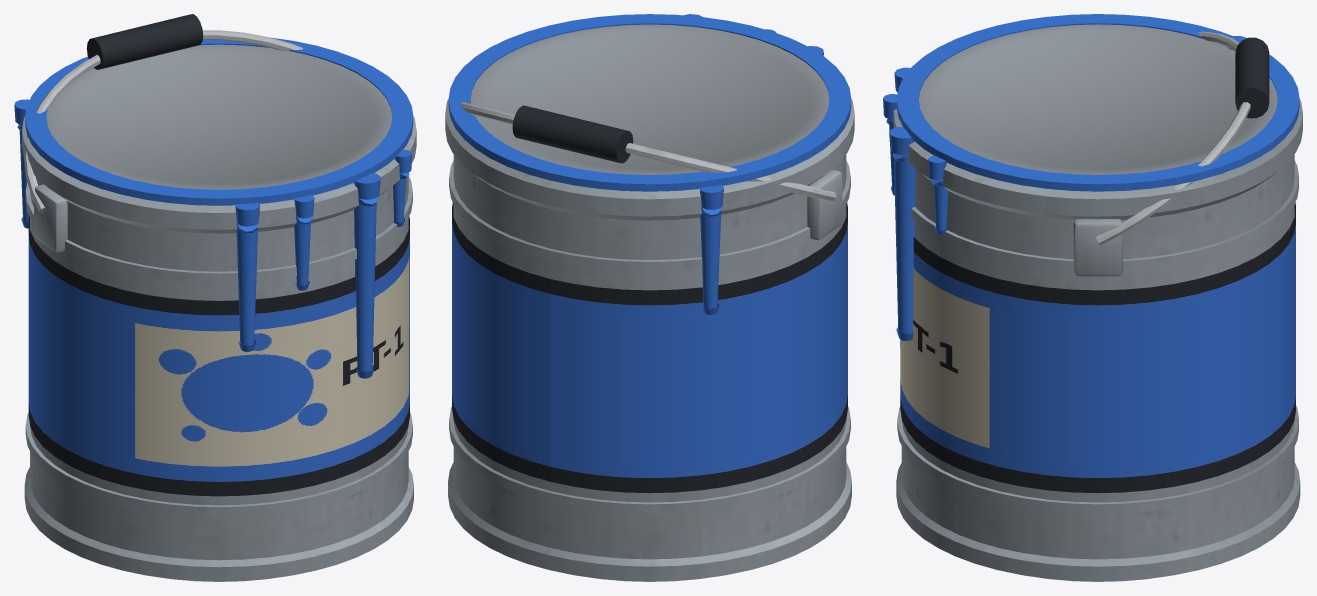
The model's file is paint_ammo.glb.
3 views of the same model, side by side, from view 1: azimuth 30°, elevation 25°; view 2: azimuth 150°, elevation 25°; view 3: azimuth 270°, elevation 25° (orthographic). The views are drawn at different scales.
Parts seen in each view (by area): view 1: Tin; view 2: Tin; view 3: Tin.
Boxes of the visible parts, x1=… form: Tin: x1=14, y1=14, x2=416, y2=581; Tin: x1=445, y1=14, x2=854, y2=581; Tin: x1=883, y1=14, x2=1302, y2=581.
Bounding box in the file's own units: 0.1578 × 0.1781 × 0.1539.
Materials: 6 (3 with a texture image).
